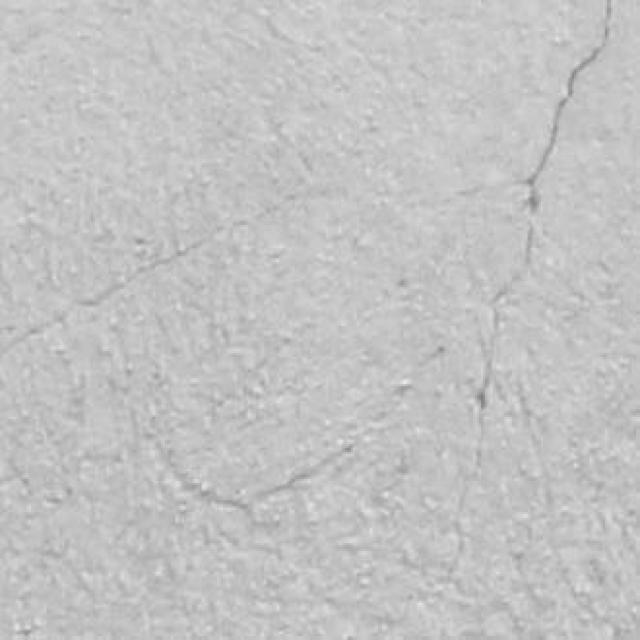crack: (491, 0, 612, 308), (497, 0, 612, 300), (0, 239, 209, 358), (516, 383, 605, 622), (524, 0, 612, 211)
